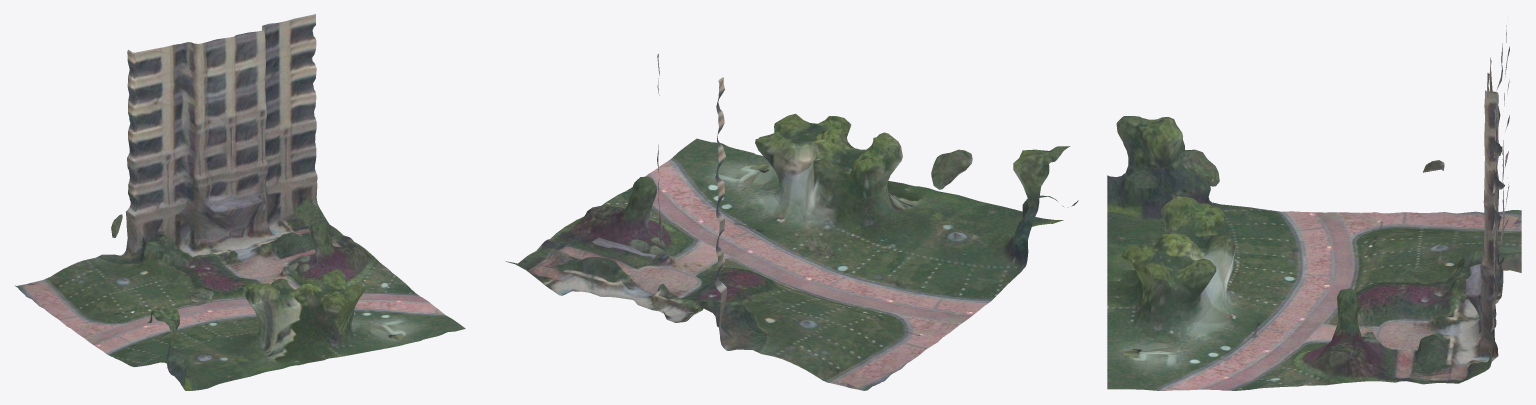
File: Tile__004__000_L21_0001400.glb
3 renders of one model, left to right at view 1: azimuth 30°, elevation 25°; view 2: azimuth 150°, elevation 25°; view 3: azimuth 270°, elevation 25°, orthographic. The views are drawn at different scales.
Visible parts, largest first — view 1: root; view 2: root; view 3: root.
Boxes of the visible parts, x1,y1,x2,y2 form: root: (15, 14, 465, 390); root: (505, 54, 1078, 390); root: (1107, 25, 1521, 390).
Size of the model in its own units: 25.13 by 17.38 by 24.01.
1 material, 1 textured.
